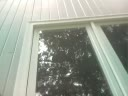window: (39, 30, 93, 96), (108, 25, 128, 47)
